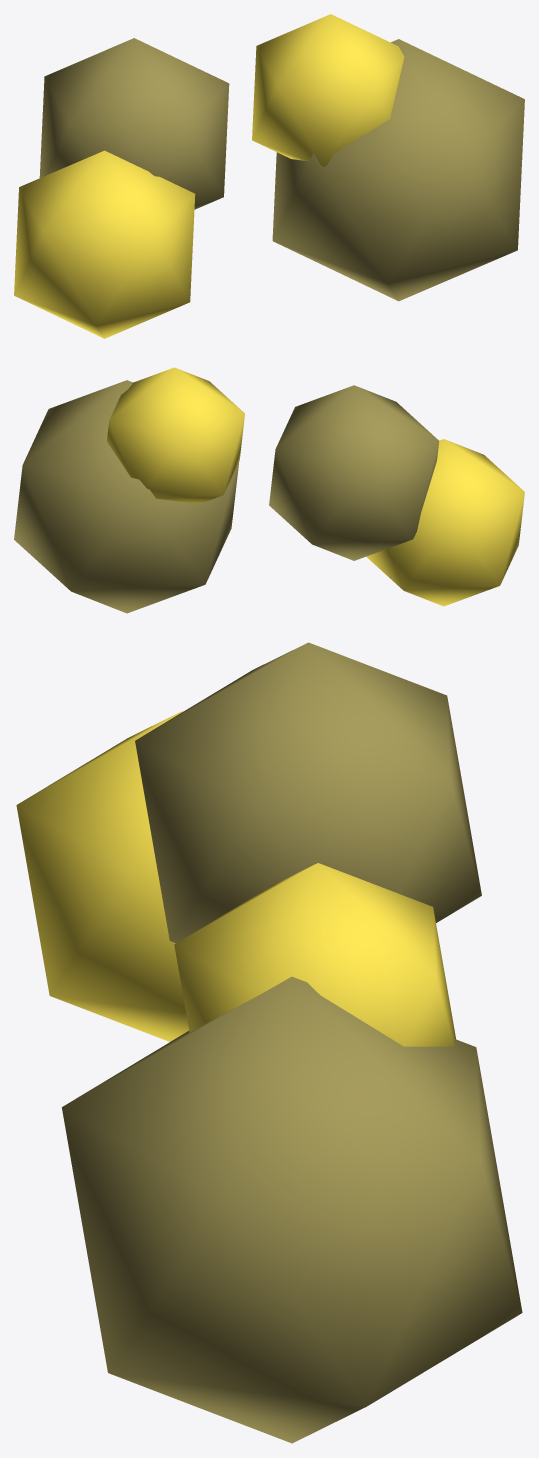
The model's file is treeyellow.glb.
3 views of the same model, one above another, from view 1: azimuth 30°, elevation 25°; view 2: azimuth 150°, elevation 25°; view 3: azimuth 270°, elevation 25° (orthographic). The views are drawn at different scales.
Parts seen in each view (by area): view 1: ทรงกลม Ico.003, ทรงกลม Ico, ทรงกลม Ico.001, ทรงกลม Ico.002; view 2: ทรงกลม Ico.003, ทรงกลม Ico.001, ทรงกลม Ico, ทรงกลม Ico.002; view 3: ทรงกลม Ico.003, ทรงกลม Ico.001, ทรงกลม Ico, ทรงกลม Ico.002.
Boxes of the visible parts, box(x1,y1,x2,y2) form: ทรงกลม Ico.003: box(272, 39, 524, 301); ทรงกลม Ico: box(14, 150, 195, 338); ทรงกลม Ico.001: box(39, 38, 229, 209); ทรงกลม Ico.002: box(252, 14, 404, 166); ทรงกลม Ico.003: box(14, 380, 239, 613); ทรงกลม Ico.001: box(269, 385, 439, 560); ทรงกลม Ico: box(366, 439, 524, 606); ทรงกลม Ico.002: box(107, 367, 244, 503); ทรงกลม Ico.003: box(62, 976, 522, 1443); ทรงกลม Ico.001: box(135, 642, 481, 942); ทรงกลม Ico: box(16, 711, 188, 1041); ทรงกลม Ico.002: box(174, 863, 455, 1046).
Size of the model in its own units: 5.8 by 3.52 by 2.81.
